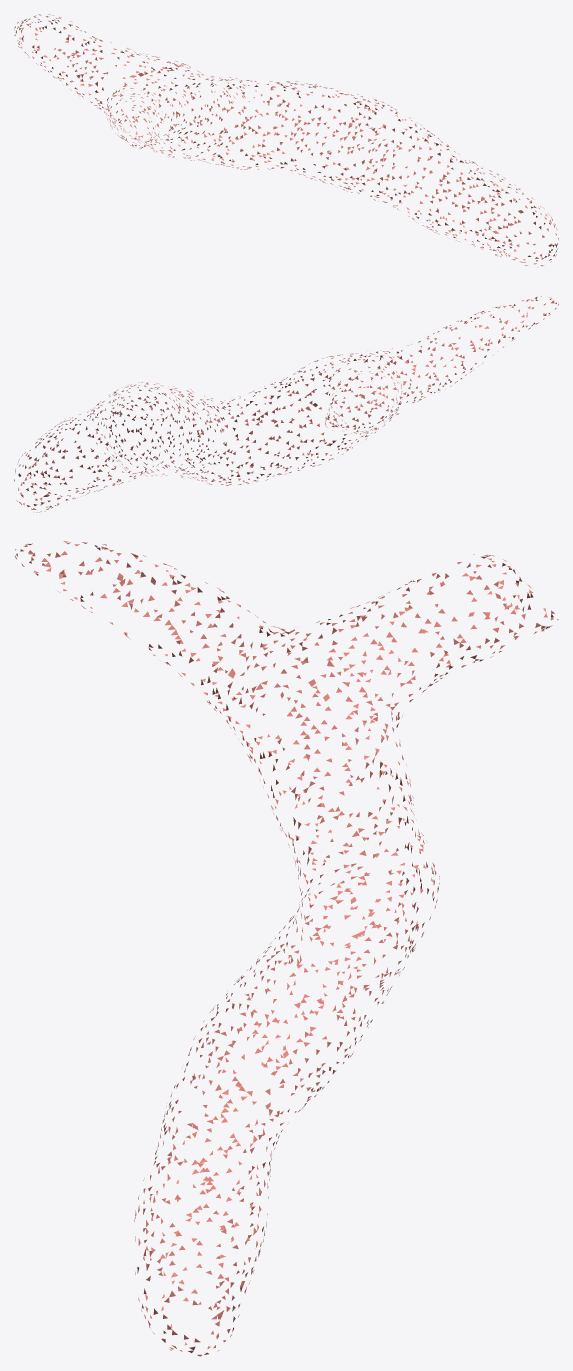
File: morph_001.glb
The picture shows the model from 3 angles, top to bottom: view 1: azimuth 30°, elevation 25°; view 2: azimuth 150°, elevation 25°; view 3: azimuth 270°, elevation 25°; orthographic projection. The views are drawn at different scales.
Size of the model in its own units: 95.92 by 55.63 by 58.85.
